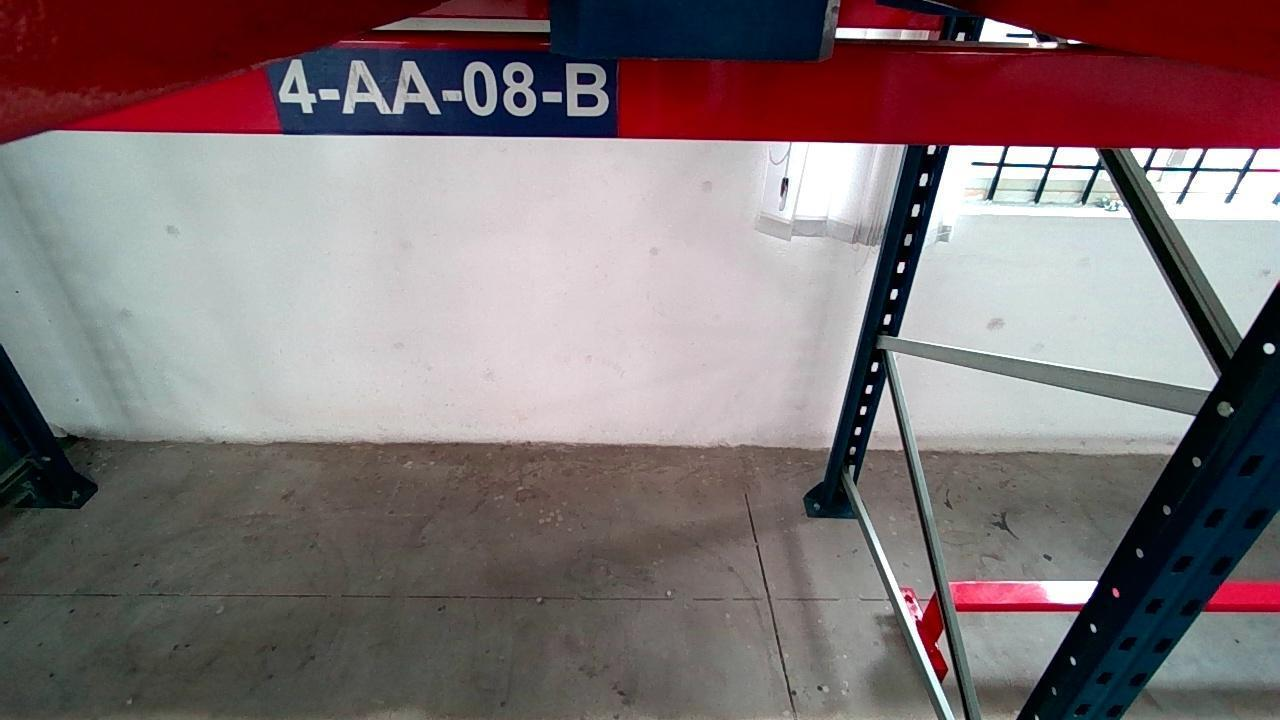h_rack: (57, 41, 1278, 149)
